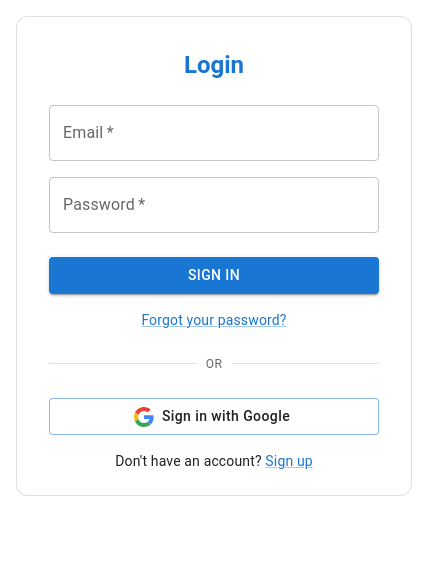
Test: Login — unconfirmed-account branch (SMA-320) › shows the generic error on ordinary failures
The image size is (429, 577).
Type "alex@example.com" into the field labelled "Email *" at point(214, 133), box [49,105,379,161]
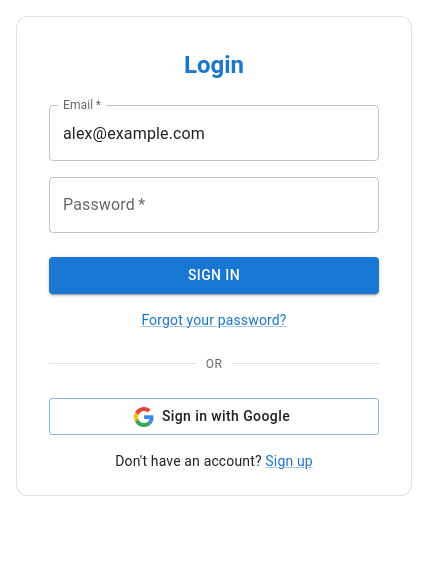
Type "Str0ng!Pass" into the password field labelled "Password *" at point(214, 205), box [49,177,379,233]
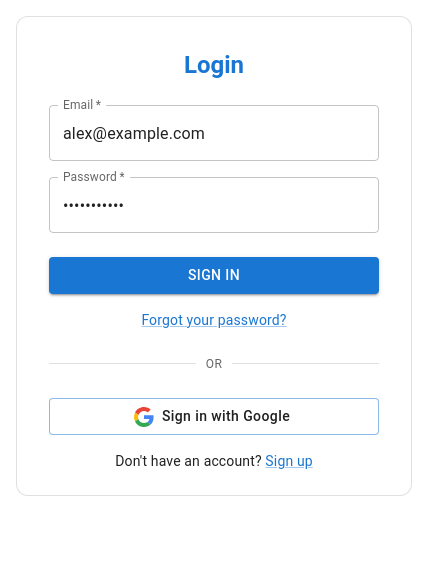
Click the button "Sign In" at point(214, 275), box [49,257,379,294]
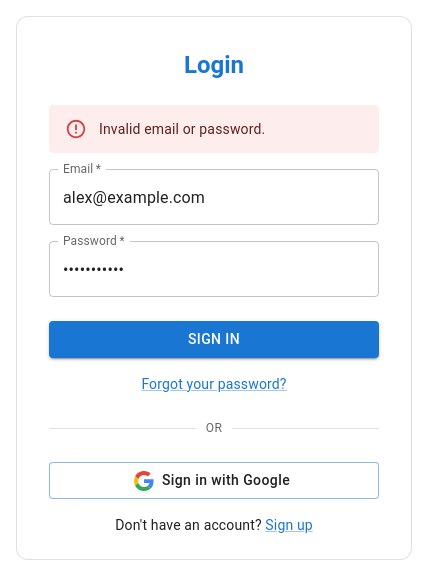
expect the text "Invalid email or password." is shown: met, box [99,121,265,137]
